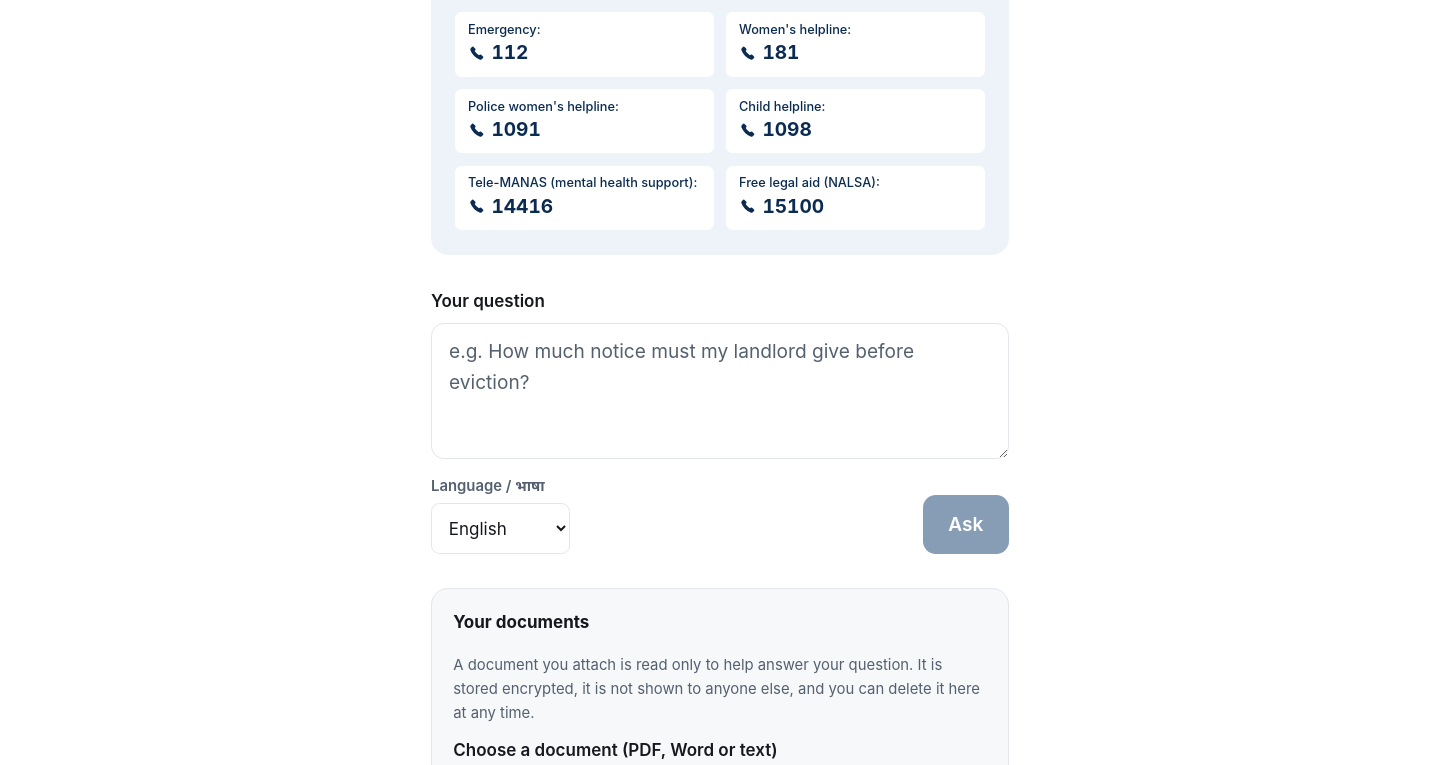
it: HomePage › keeps every turn of the conversation on the page, oldest first
(page scrolled)
In the text box labelled "Your question": [720, 390] box [431,322,1009,458], type "First question"
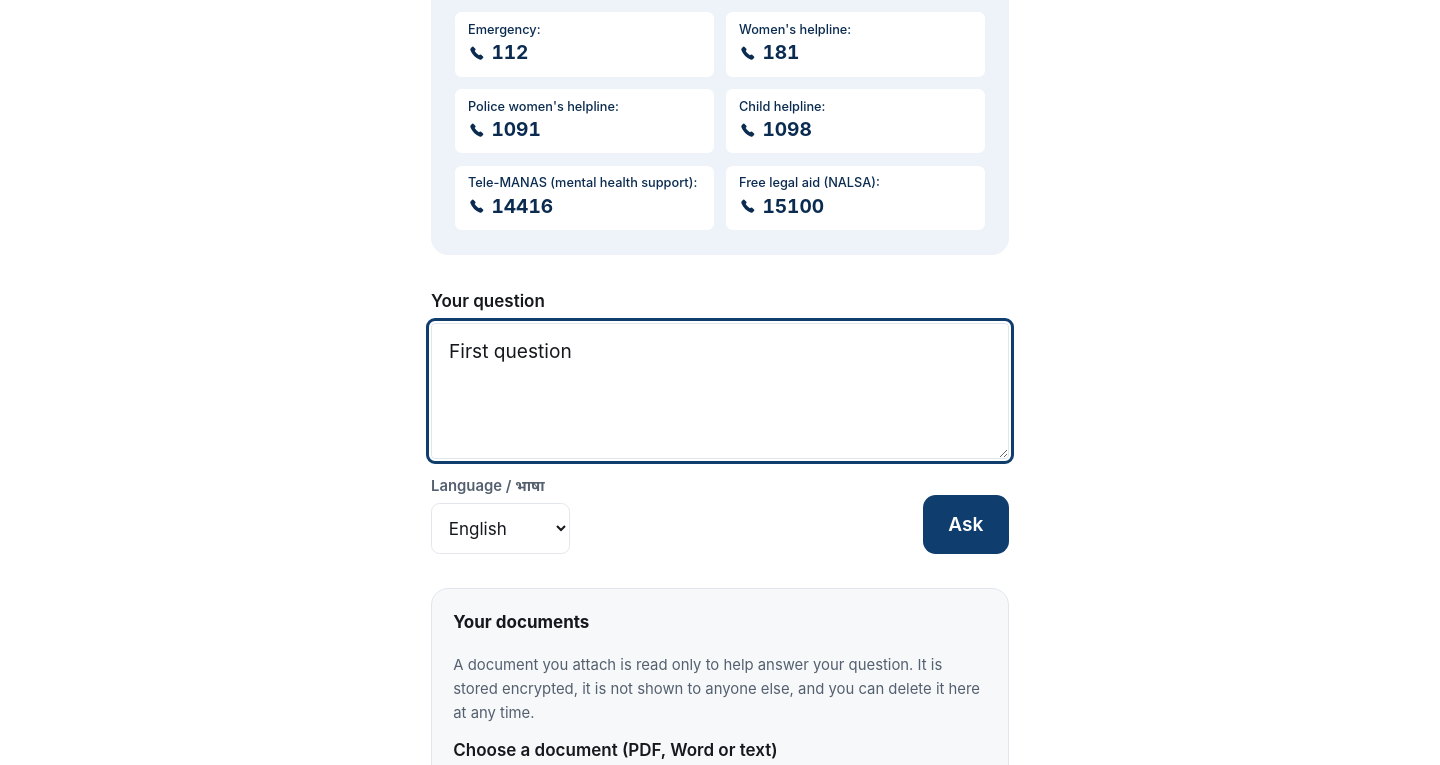
Click the button "Ask": [966, 524] box [923,495,1009,554]
(page scrolled)
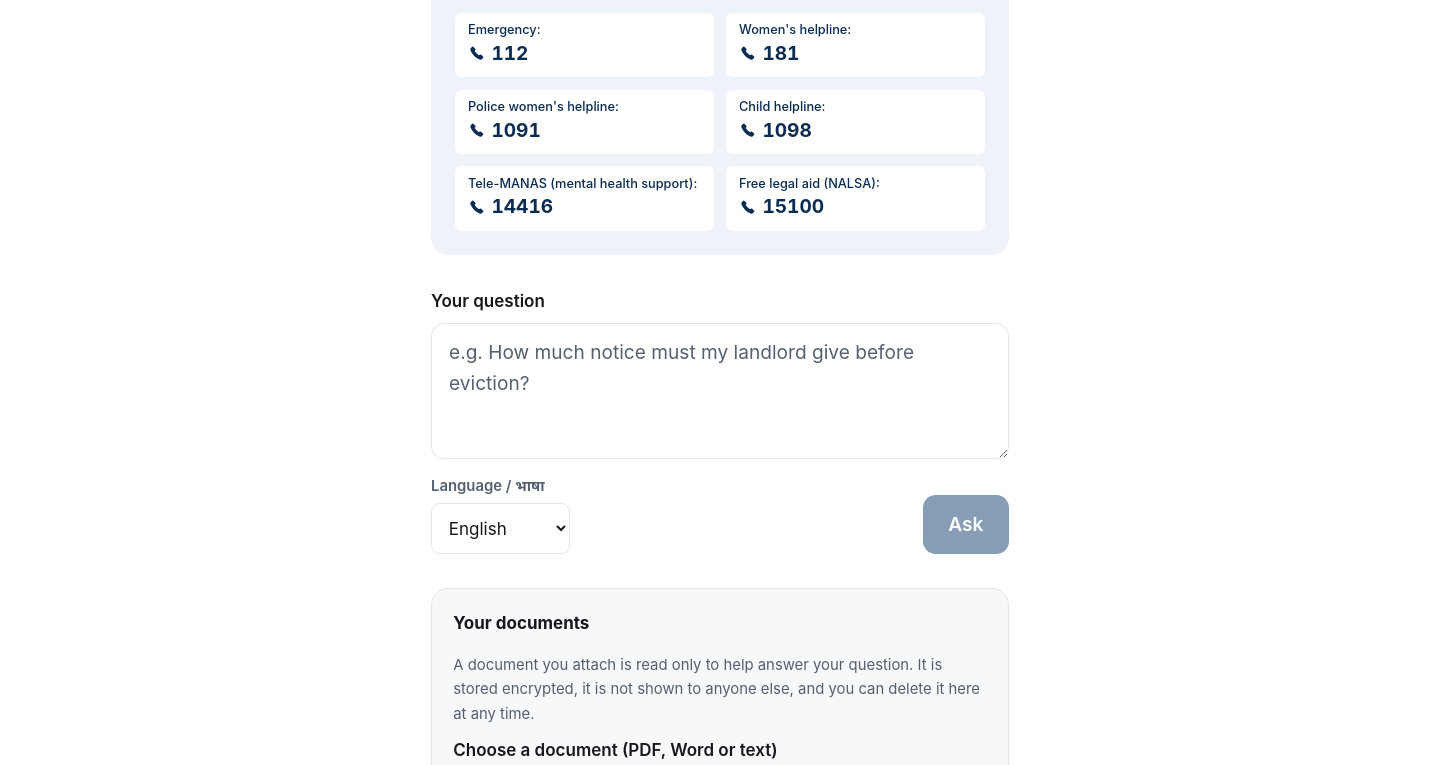
In the text box labelled "Your question": [720, 391] box [431,323,1009,459], type "Second question"
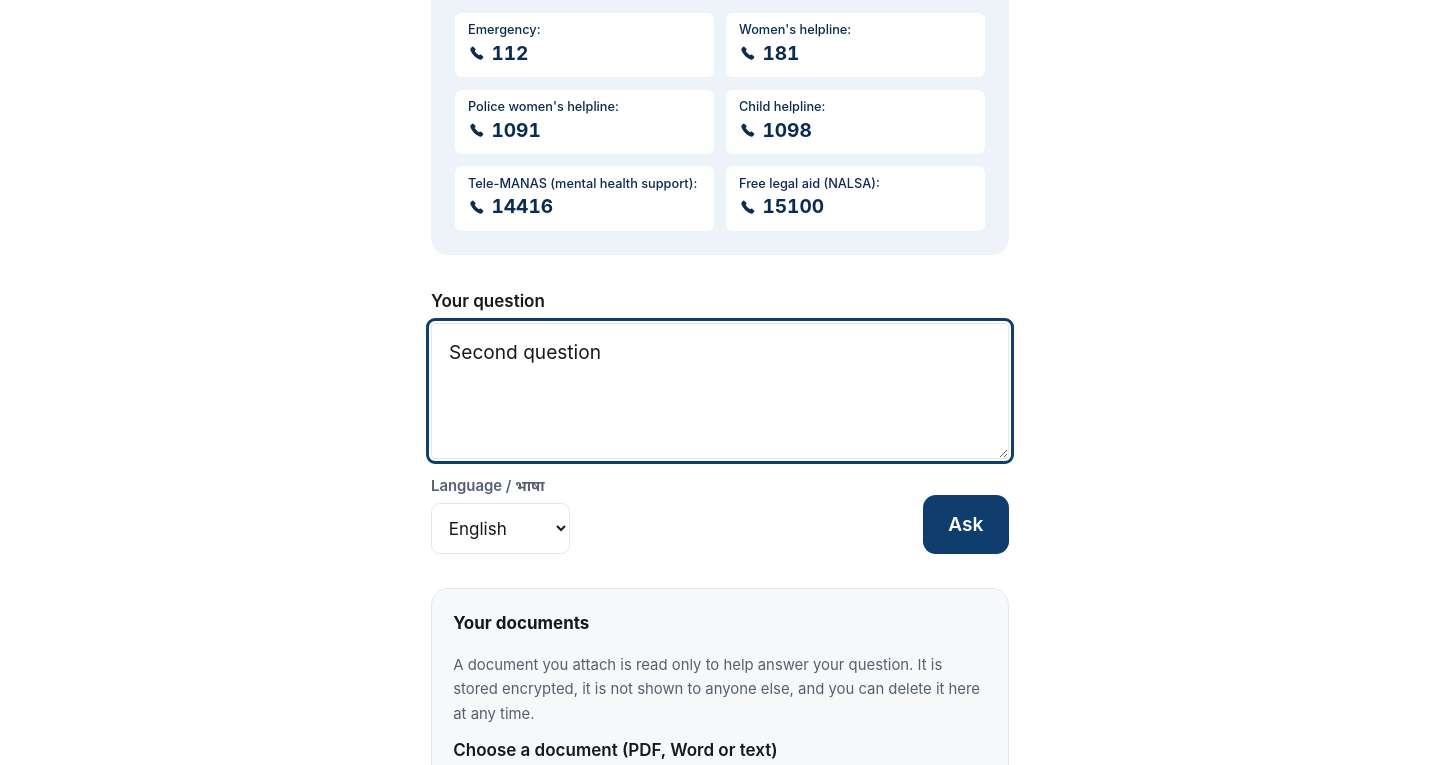
Click the button "Ask": [966, 525] box [923,495,1009,554]
(page scrolled)
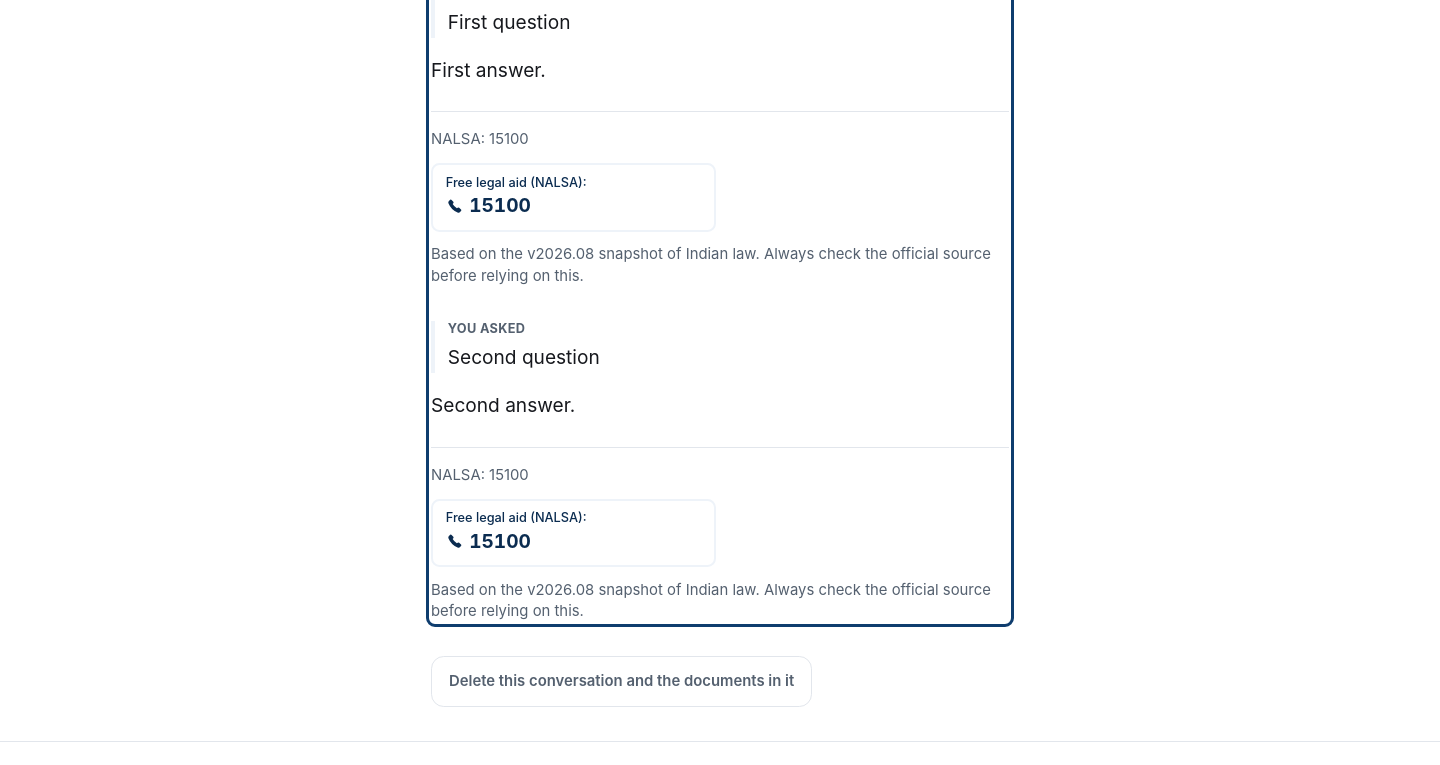
Expected: the text "Second answer." is shown, [431,393,575,417]
